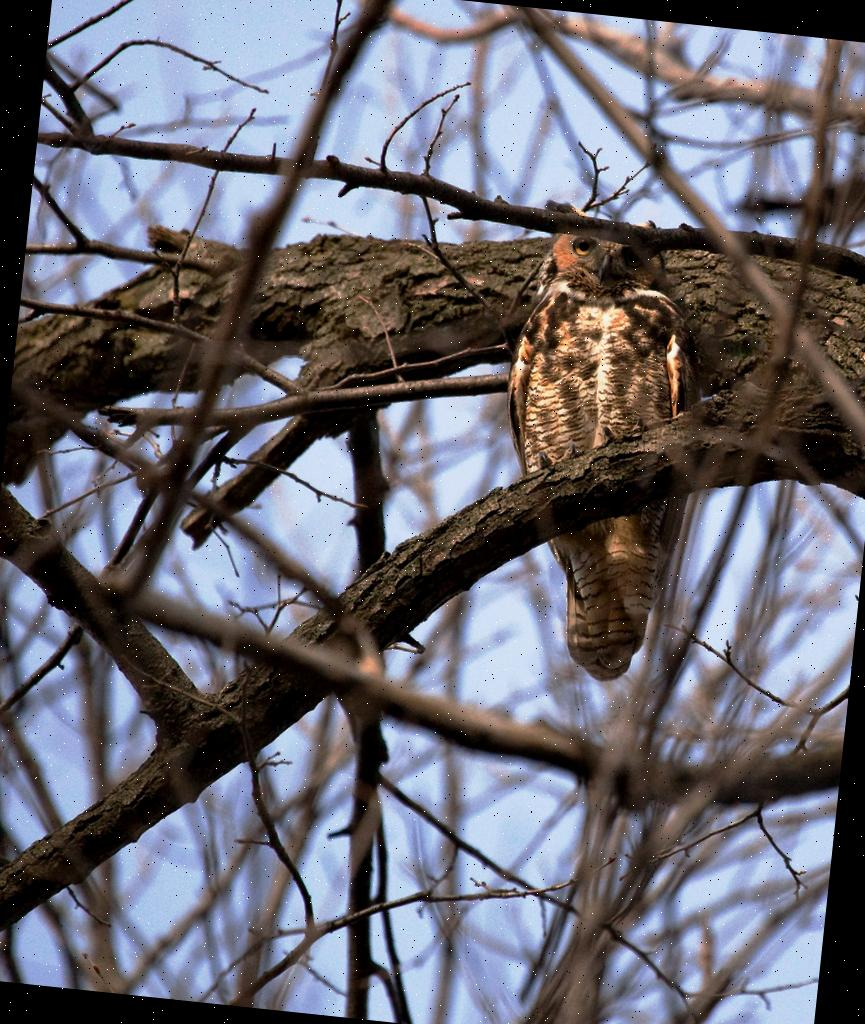Owl: (476, 200, 730, 687)
